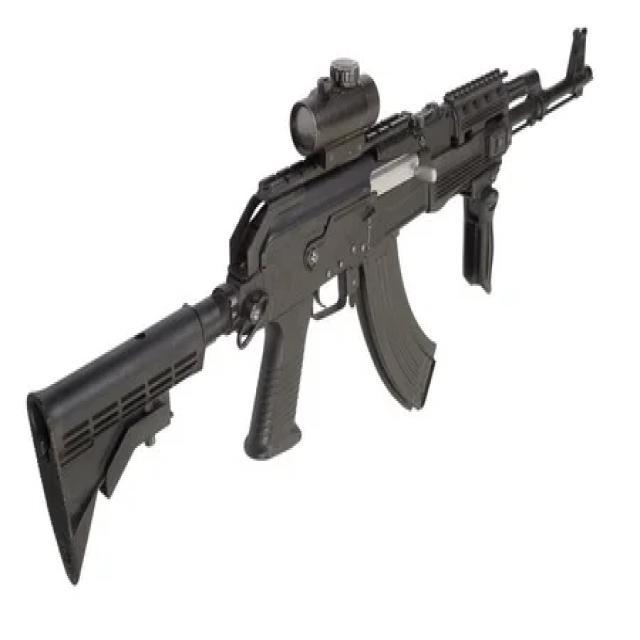weapon: (26, 24, 594, 588)
